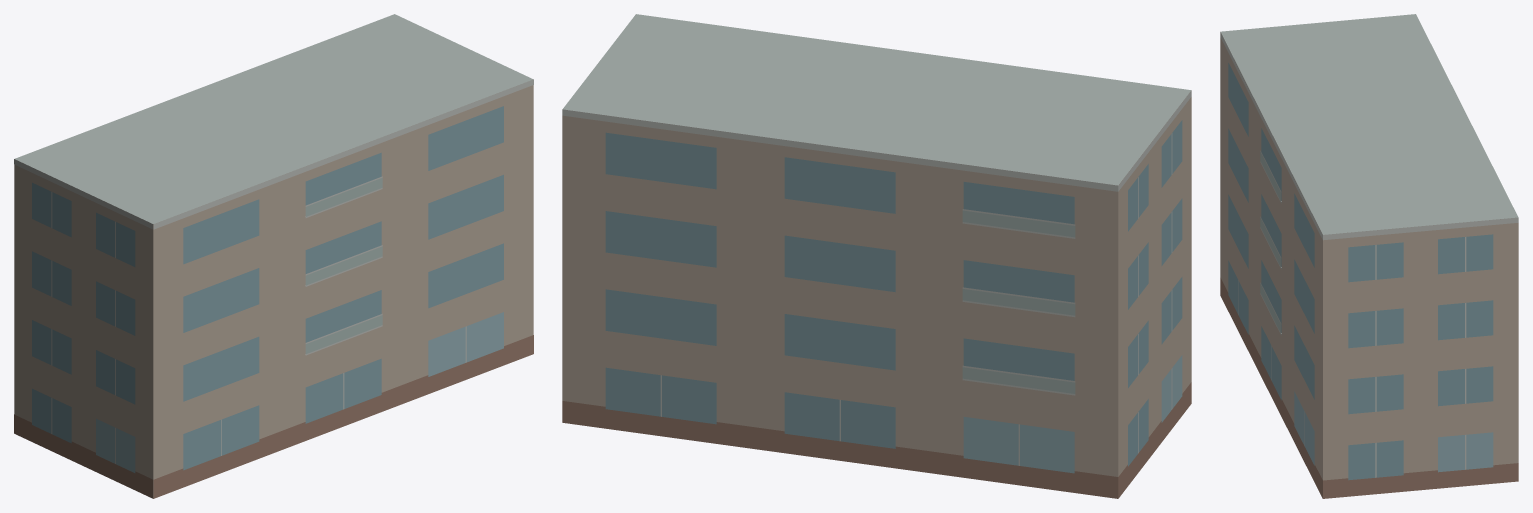
The model's file is survey-upis-32925761.glb.
The picture shows the model from 3 angles, left to right: view 1: azimuth 30°, elevation 25°; view 2: azimuth 150°, elevation 25°; view 3: azimuth 270°, elevation 25°; orthographic projection. The views are drawn at different scales.
Visible parts, largest first — view 1: survey-upis-32925761.tmp; view 2: survey-upis-32925761.tmp; view 3: survey-upis-32925761.tmp.
Boxes of the visible parts, bbox=[...] form: survey-upis-32925761.tmp: bbox=[14, 14, 533, 498]; survey-upis-32925761.tmp: bbox=[562, 14, 1191, 498]; survey-upis-32925761.tmp: bbox=[1220, 14, 1518, 498].
Bounding box in the file's own units: 21.91 × 12.2 × 12.5.
